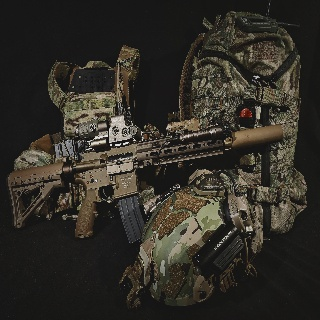rifle: (7, 116, 285, 244)
